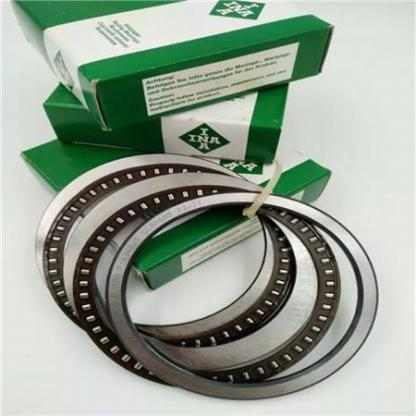FOD: (60, 169, 344, 393)
